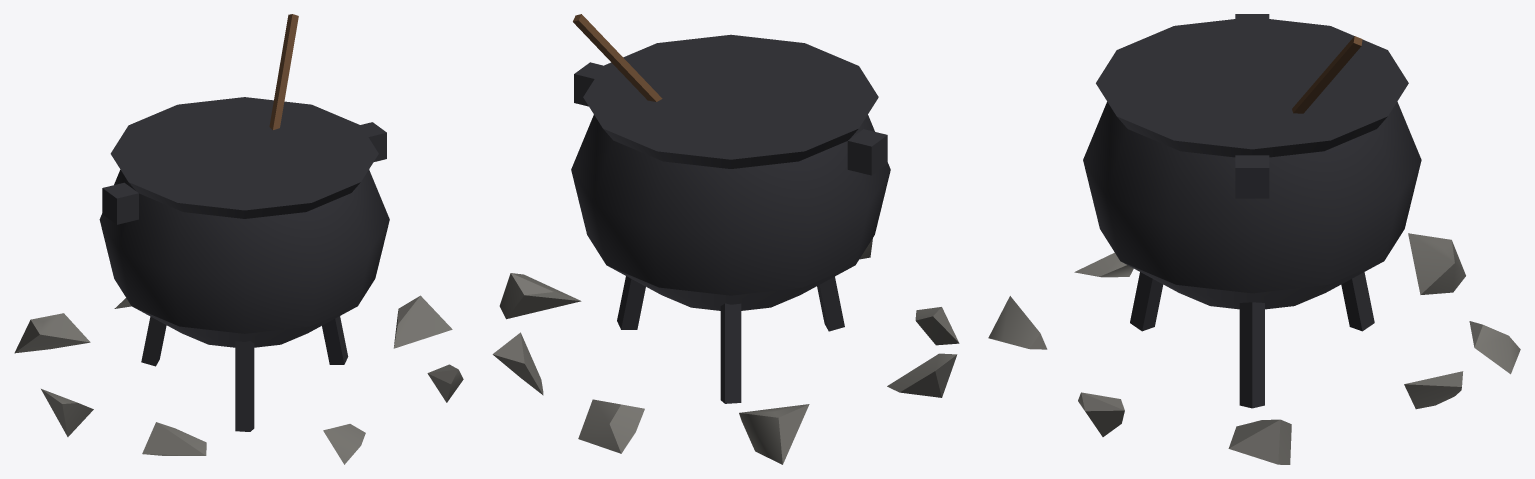
The model's file is Cauldron.fbx.
3 views of the same model, side by side, from view 1: azimuth 30°, elevation 25°; view 2: azimuth 150°, elevation 25°; view 3: azimuth 270°, elevation 25° (orthographic). The views are drawn at different scales.
Parts seen in each view (by area): view 1: Cauldron; view 2: Cauldron; view 3: Cauldron.
Part boxes in pixels (x1,y1,x2,y2): Cauldron: [14, 14, 463, 464]; Cauldron: [492, 14, 959, 464]; Cauldron: [988, 14, 1520, 464].
Bounding box in the file's own units: 1.25 × 0.9779 × 1.26.
